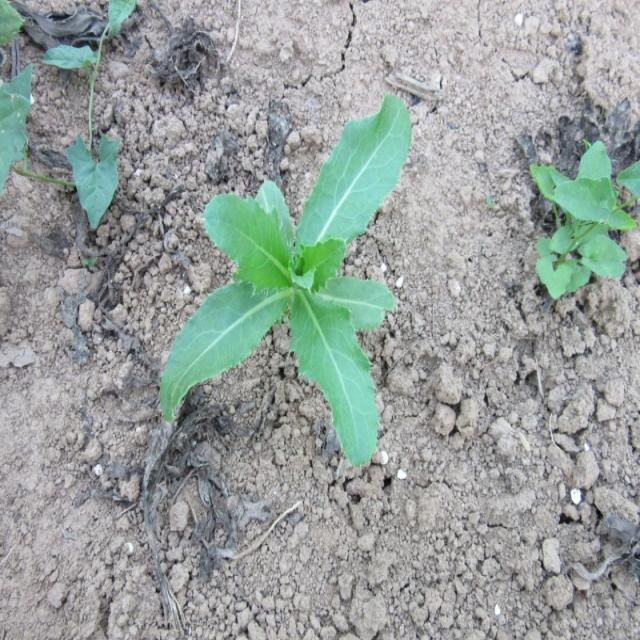cs: (161, 90, 411, 468)
